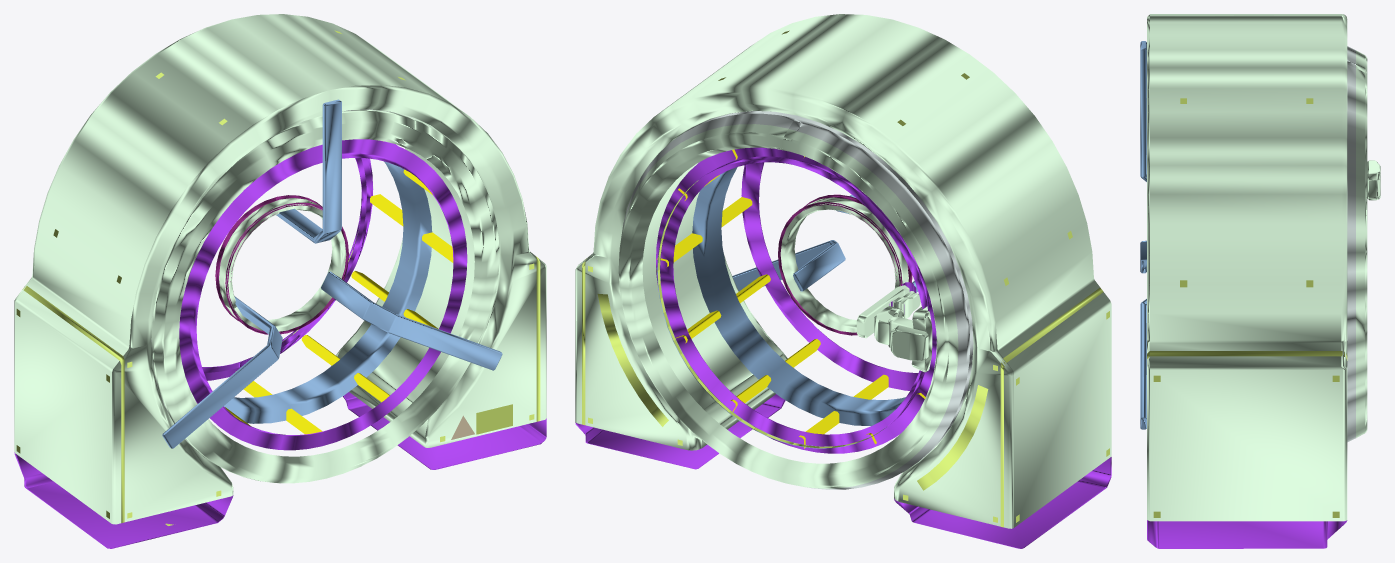
The model's file is hydroponic_machine_1_incubator_rotary_025x01x0225_a.glb.
3 renders of one model, left to right at view 1: azimuth 30°, elevation 25°; view 2: azimuth 150°, elevation 25°; view 3: azimuth 270°, elevation 25°, orthographic.
Size of the model in its own units: 2.5 by 2.25 by 1.2.
